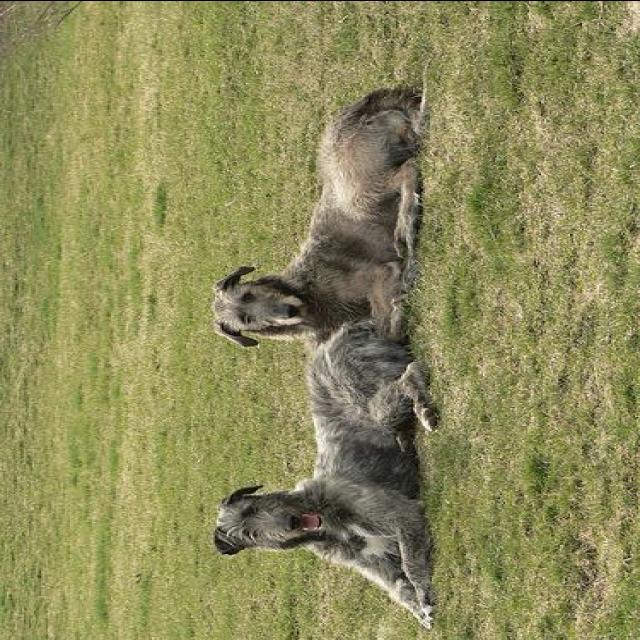irish_wolfhound: (212, 310, 446, 628), (212, 49, 438, 350)
